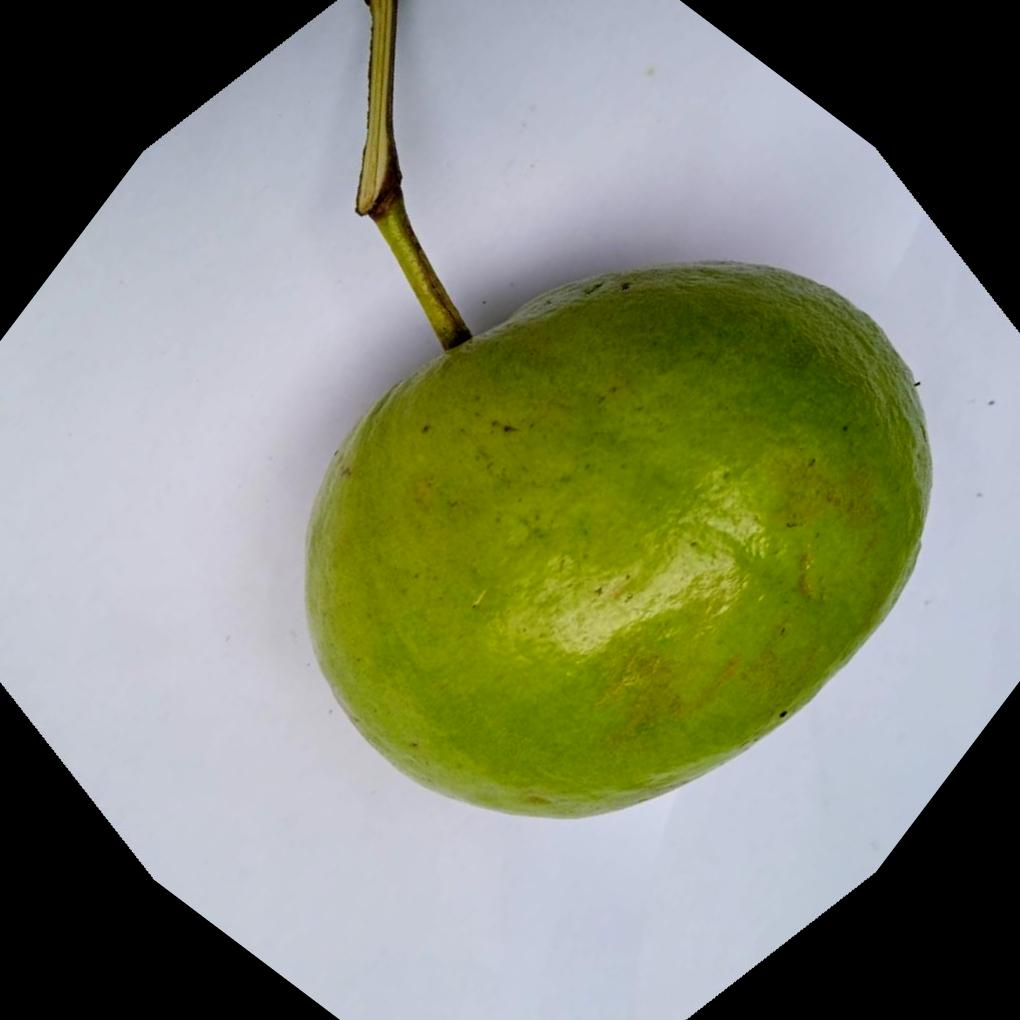FreshGuava: (303, 256, 937, 820)
